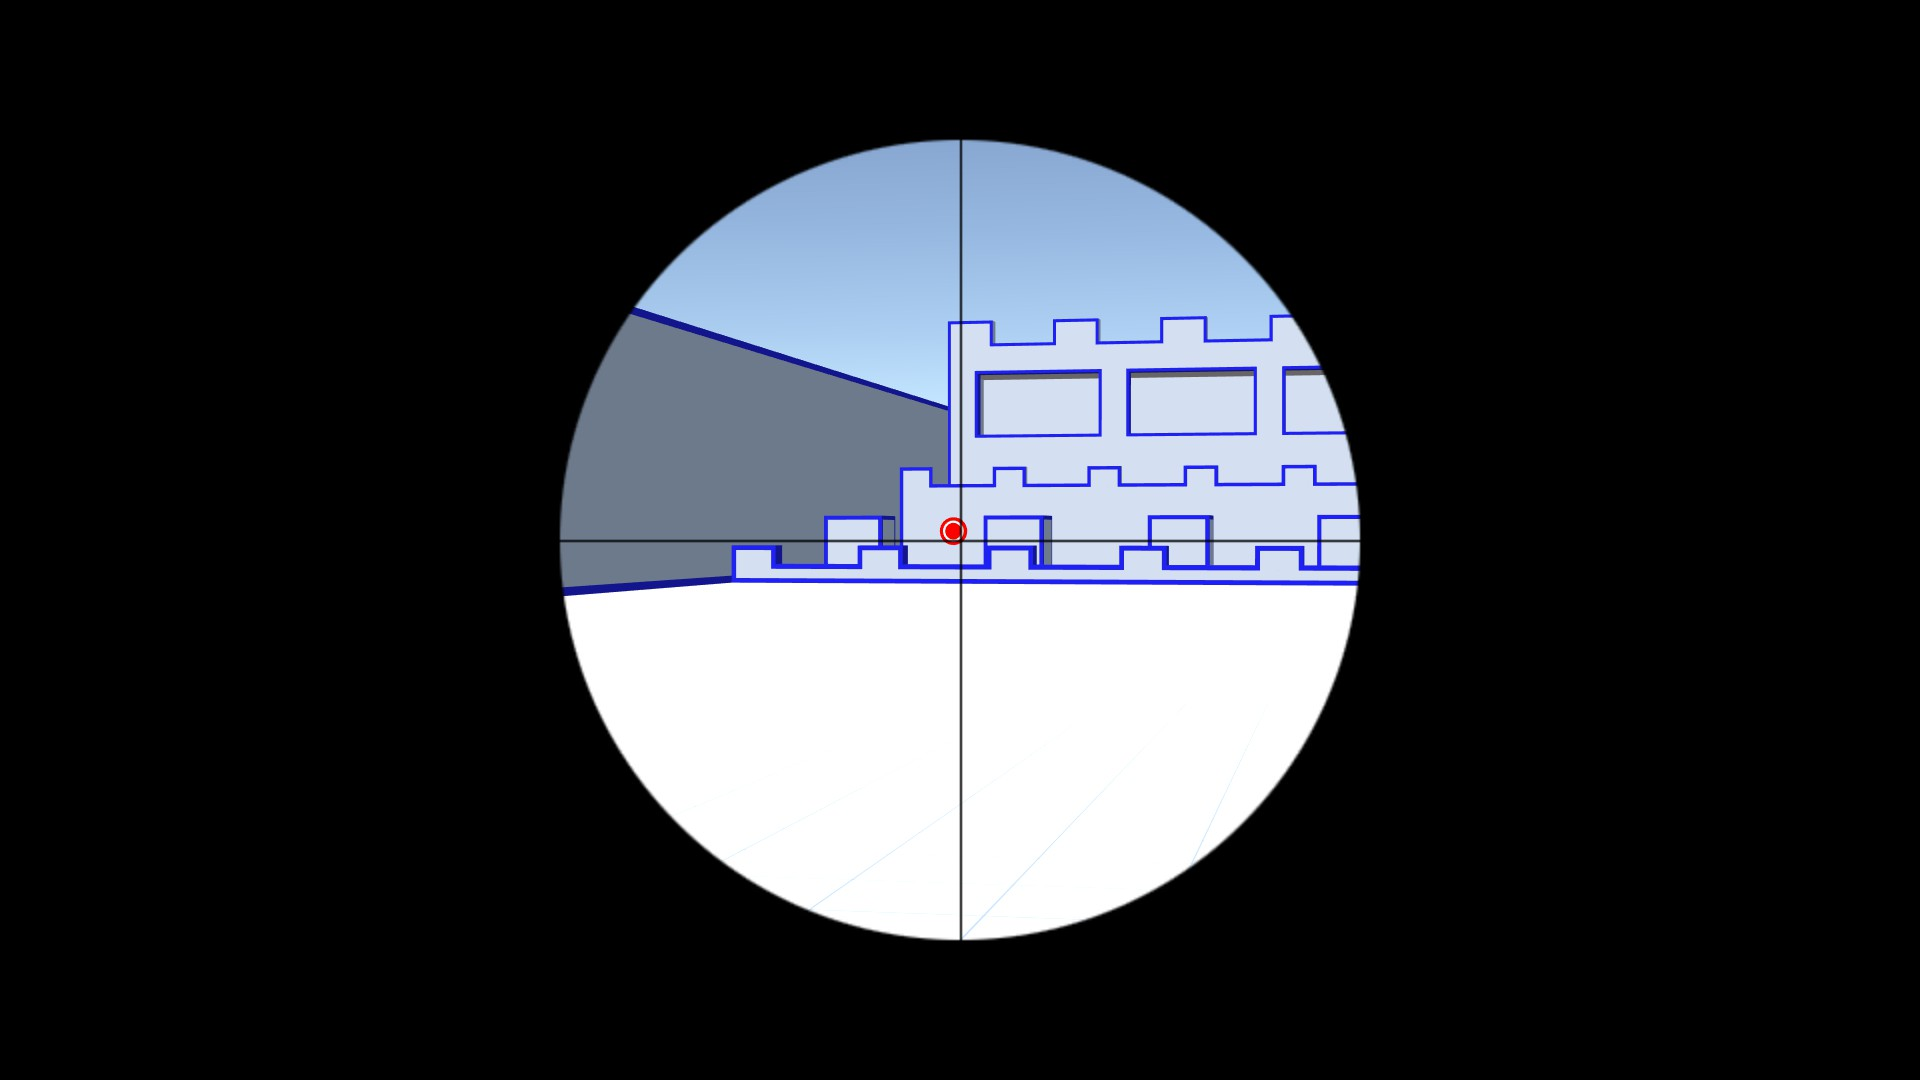target: (940, 516, 971, 546)
